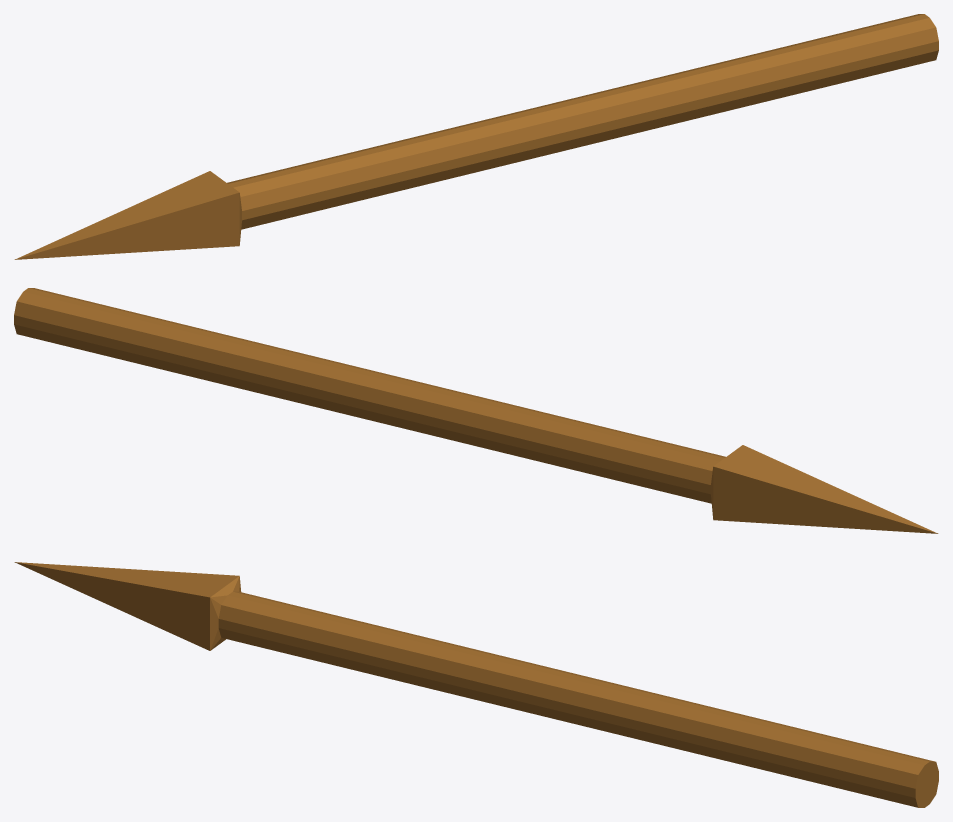
Rendered from Lanza.fbx.
3 views of the same model, one above another, from view 1: azimuth 30°, elevation 25°; view 2: azimuth 150°, elevation 25°; view 3: azimuth 330°, elevation 25° (orthographic).
Visible parts, largest first — view 1: Cube; view 2: Cube; view 3: Cube.
Boxes of the visible parts, x1,y1,x2,y2 form: Cube: (14,14,938,259); Cube: (14,288,938,533); Cube: (14,562,938,807).
Size of the model in its own units: 1938 by 109 by 109.
1 material, 1 textured.
